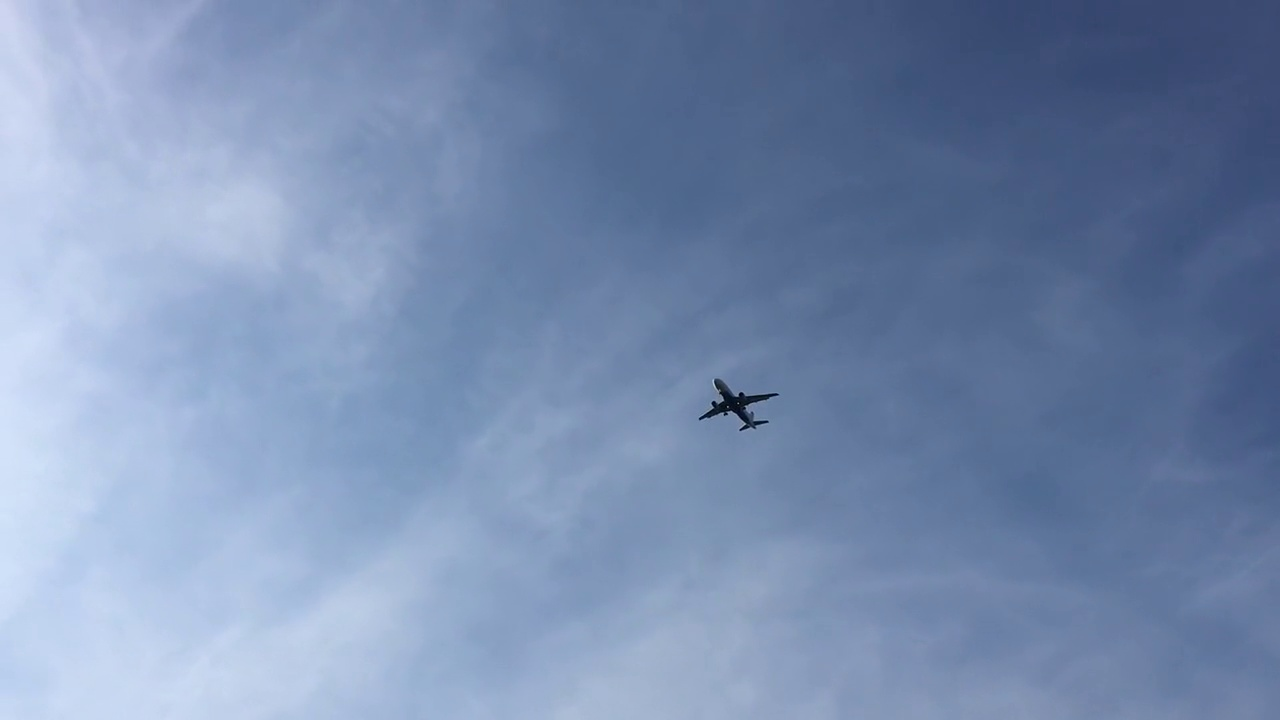plane: (698, 378, 778, 431)
